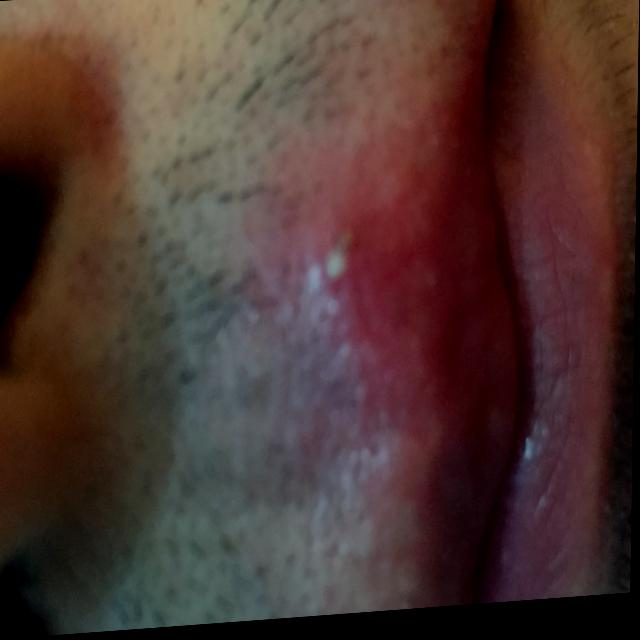blackheads: (293, 200, 374, 317)
